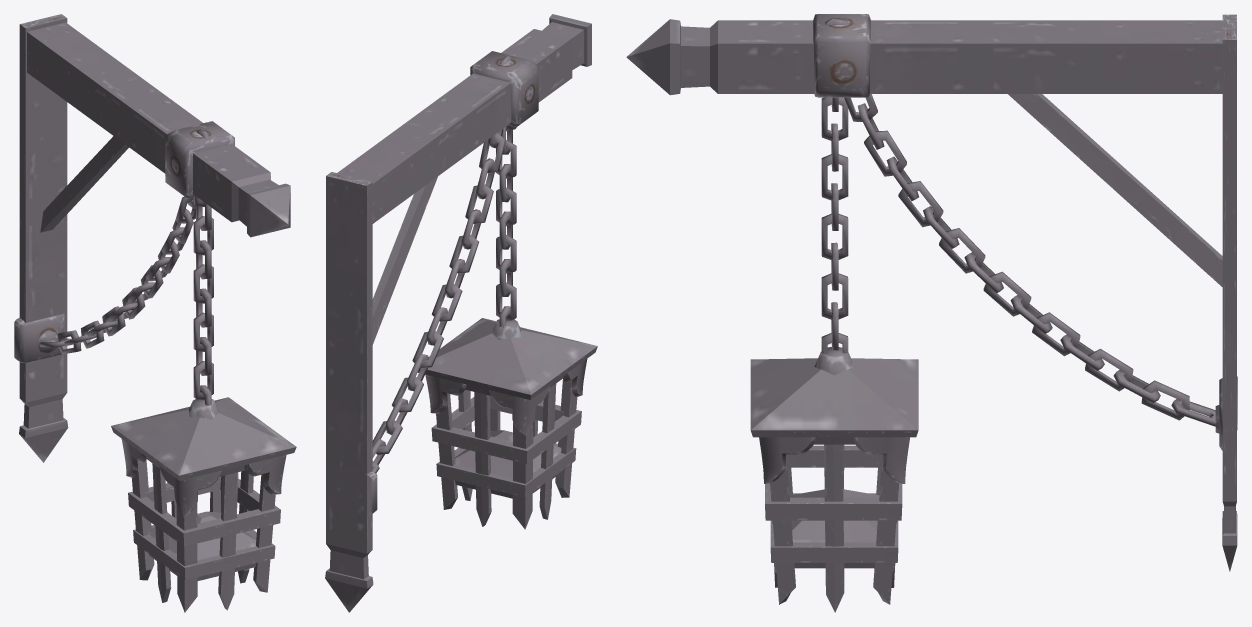
The model's file is props.glb.
3 renders of one model, left to right at view 1: azimuth 30°, elevation 25°; view 2: azimuth 150°, elevation 25°; view 3: azimuth 270°, elevation 25°, orthographic. The views are drawn at different scales.
Visible parts, largest first — view 1: Lantern_Wall; view 2: Lantern_Wall; view 3: Lantern_Wall.
Boxes of the visible parts, x1,y1,x2,y2 form: Lantern_Wall: (14, 14, 296, 612); Lantern_Wall: (325, 14, 597, 612); Lantern_Wall: (626, 14, 1237, 612).
Size of the model in its own units: 0.3573 by 1.34 by 1.3.
1 material, 1 textured.
